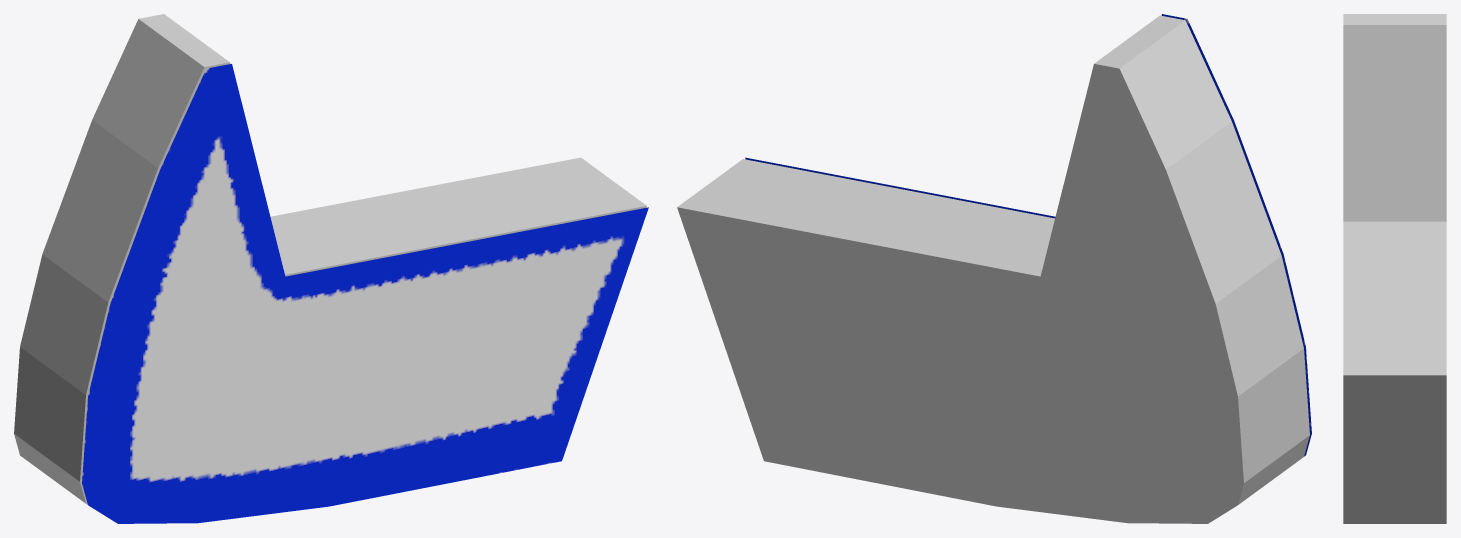
3 views of the same model, side by side, from view 1: azimuth 30°, elevation 25°; view 2: azimuth 150°, elevation 25°; view 3: azimuth 270°, elevation 25° (orthographic). The views are drawn at different scales.
Visible parts, largest first — view 1: In5_1, In5_0; view 2: In5_0, In5_1; view 3: In5_0.
Boxes of the visible parts, bbox=[...] form: In5_1: bbox=[82, 64, 648, 523]; In5_0: bbox=[14, 14, 646, 504]; In5_0: bbox=[677, 15, 1309, 523]; In5_1: bbox=[745, 14, 1311, 456]; In5_0: bbox=[1343, 14, 1446, 523].
Size of the model in its own units: 2.48 by 2 by 0.515.
2 materials, 1 textured.
